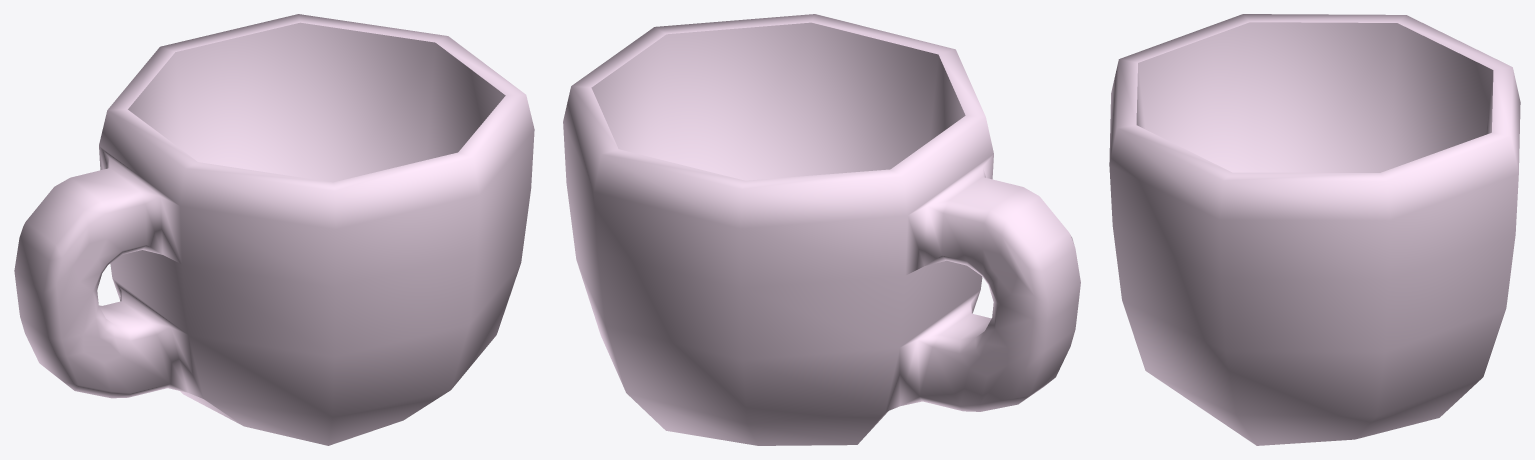
Rendered from CoffeeCupEmpty.fbx.
3 renders of one model, left to right at view 1: azimuth 30°, elevation 25°; view 2: azimuth 150°, elevation 25°; view 3: azimuth 270°, elevation 25°, orthographic. The views are drawn at different scales.
Parts seen in each view (by area): view 1: Coffee_cup empty; view 2: Coffee_cup empty; view 3: Coffee_cup empty.
Part boxes in pixels (box(x1,y1,x2,y2)): Coffee_cup empty: box(14, 14, 534, 445); Coffee_cup empty: box(563, 14, 1080, 445); Coffee_cup empty: box(1109, 14, 1520, 445).
Size of the model in its own units: 59.56 by 35.83 by 45.15.
Materials: 1 (1 with a texture image).
